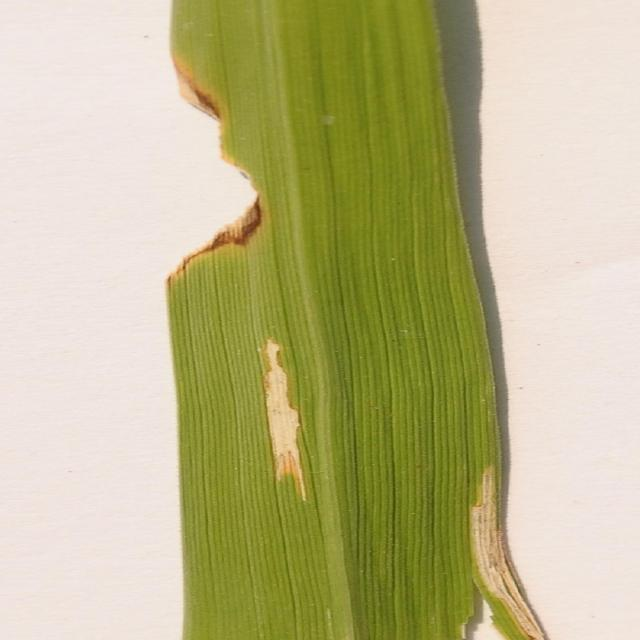Bacterial leaf blight: (162, 31, 274, 304), (457, 468, 556, 640), (245, 330, 311, 541)
